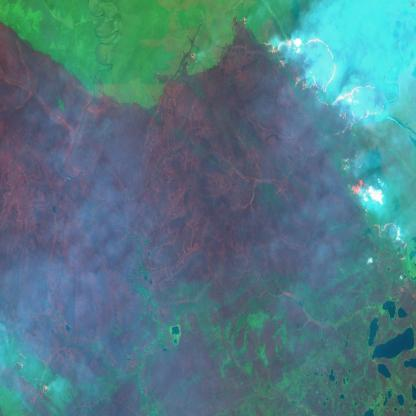fire: (261, 30, 409, 266)
